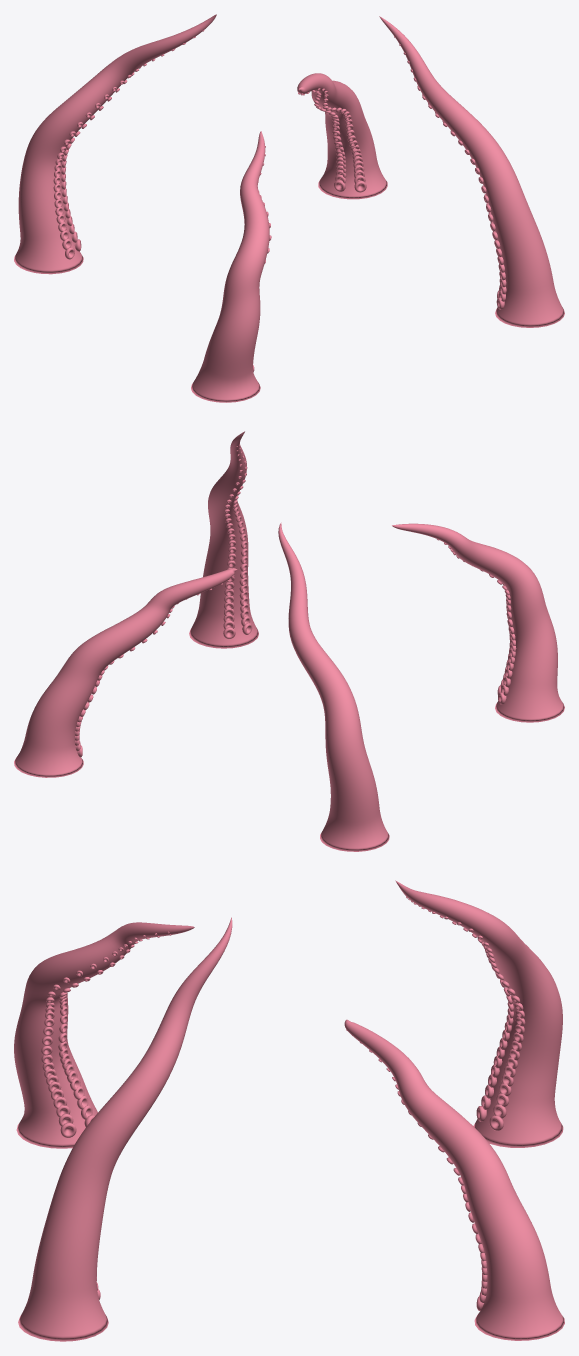
The model's file is tentacules_4_coins_sol.glb.
3 views of the same model, one above another, from view 1: azimuth 30°, elevation 25°; view 2: azimuth 150°, elevation 25°; view 3: azimuth 270°, elevation 25° (orthographic). The views are drawn at different scales.
Visible parts, largest first — view 1: Tentacules_4_Coins_Sol; view 2: Tentacules_4_Coins_Sol; view 3: Tentacules_4_Coins_Sol.
Part boxes in pixels (x1=…): Tentacules_4_Coins_Sol: x1=14, y1=14, x2=564, y2=402; Tentacules_4_Coins_Sol: x1=14, y1=431, x2=564, y2=851; Tentacules_4_Coins_Sol: x1=14, y1=880, x2=564, y2=1341.
Size of the model in its own units: 8.65 by 6.11 by 8.69.
